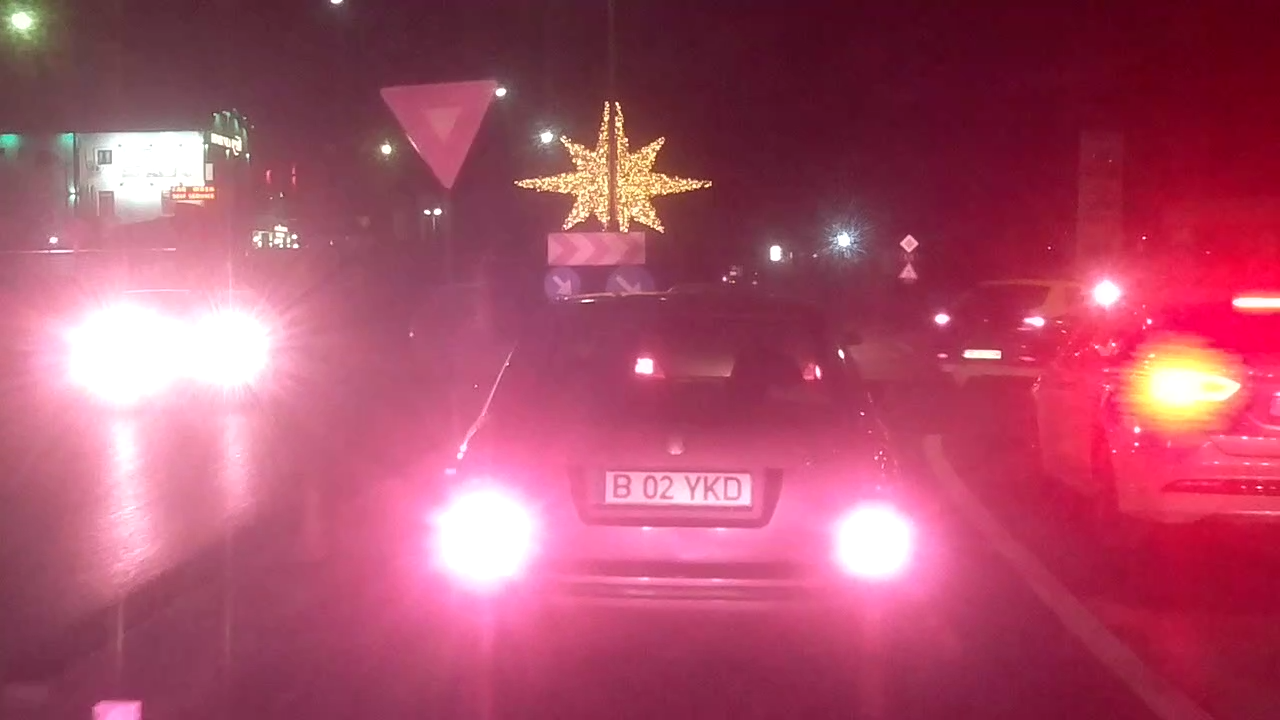license-plate: (595, 465, 760, 511)
